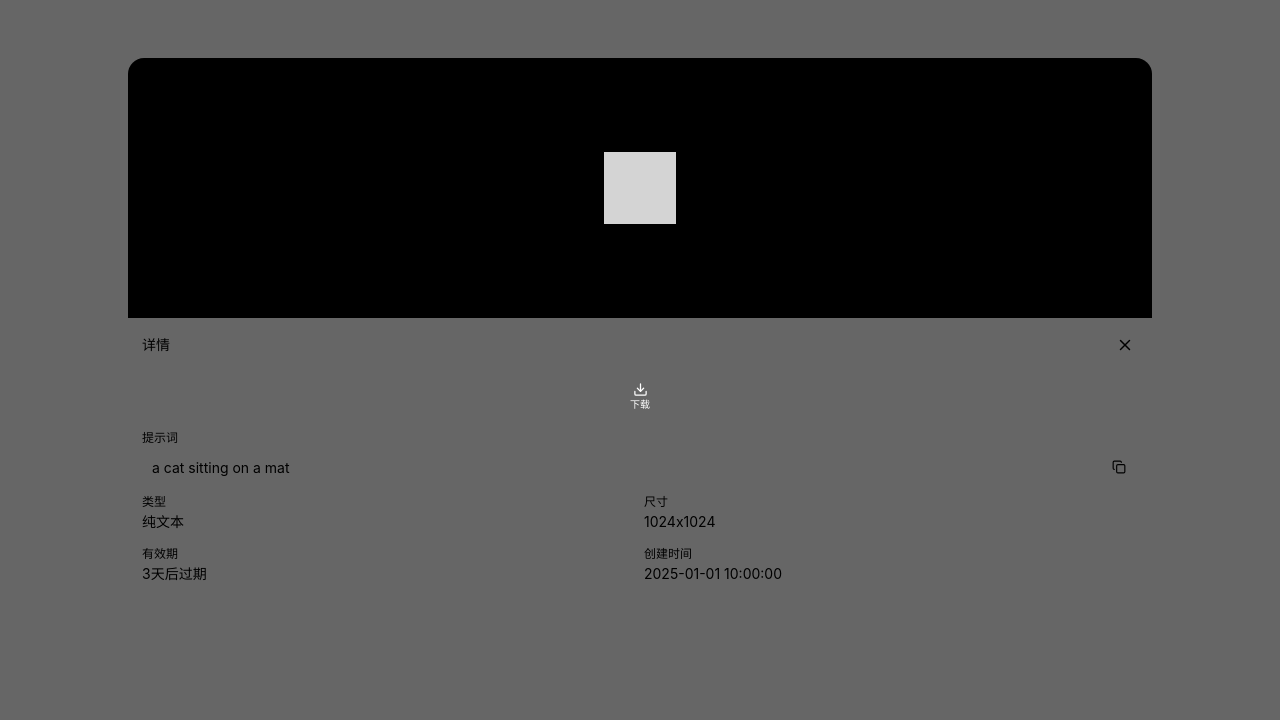
Test: UnifiedDetailModal › copy › shows "已复制" feedback after copy
The width and height of the screenshot is (1280, 720).
Click the button without text in the row of "a cat sitting on a mat" at (1119, 467), box [1108,456,1130,478]
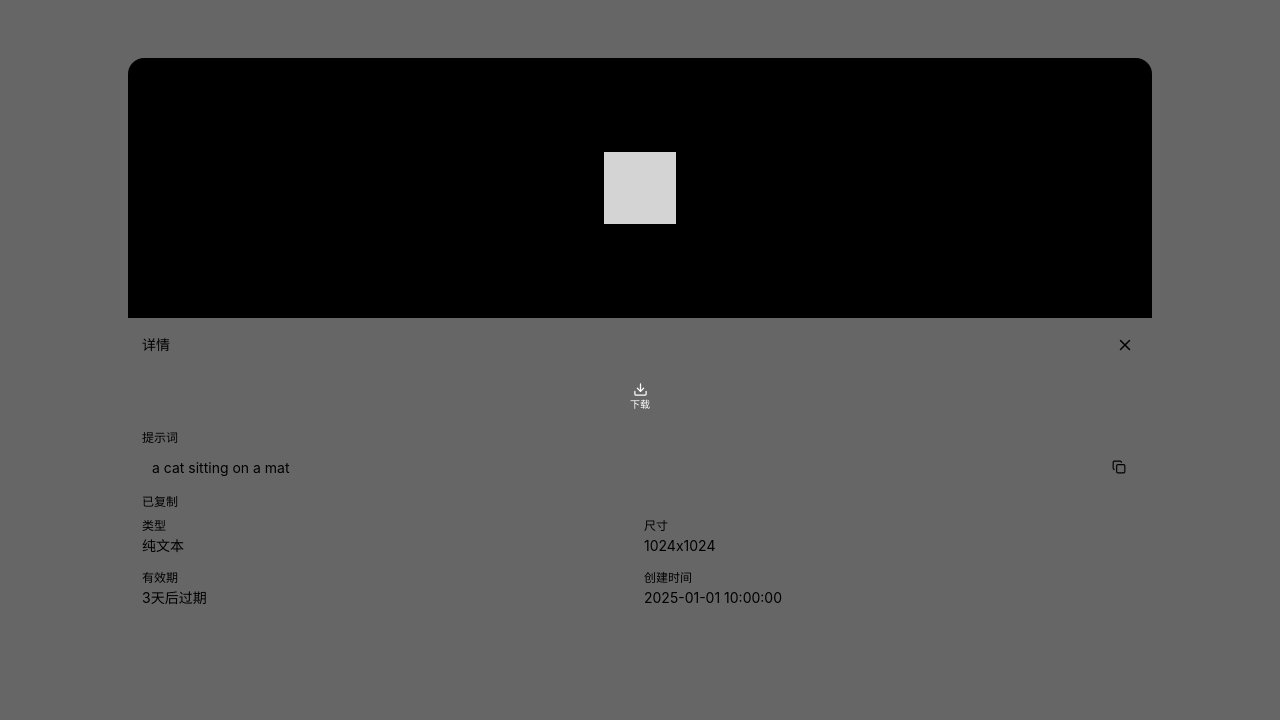
Expected: the text "已复制" is shown, [142,494,178,509]
